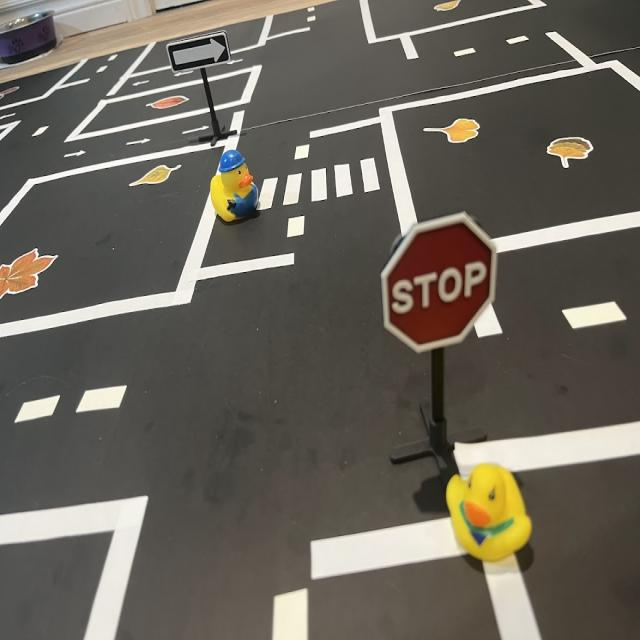duck_regular: (447, 465, 534, 567)
duck_specialty: (211, 150, 262, 226)
road_crosswalk: (255, 154, 385, 214)
road_oneway: (180, 122, 213, 139), (61, 148, 90, 161), (125, 137, 153, 148), (225, 55, 248, 66), (131, 77, 152, 89), (173, 71, 195, 81)
sign_oneway_right: (168, 29, 233, 75)
sign_stop: (382, 212, 498, 356)
